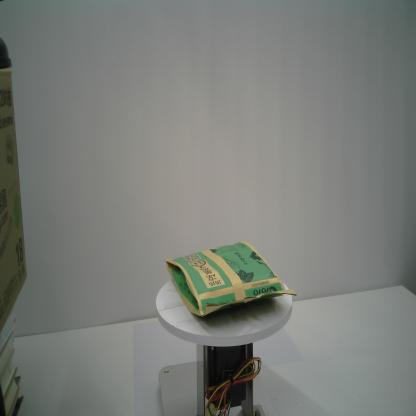Dried Food: (162, 237, 298, 322)
